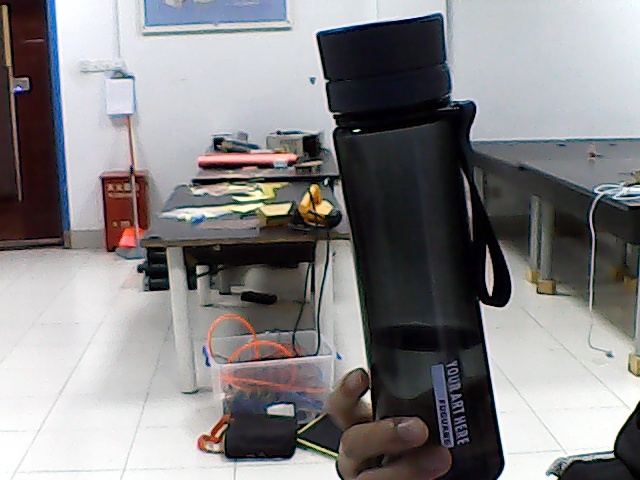cup: (363, 14, 467, 413)
